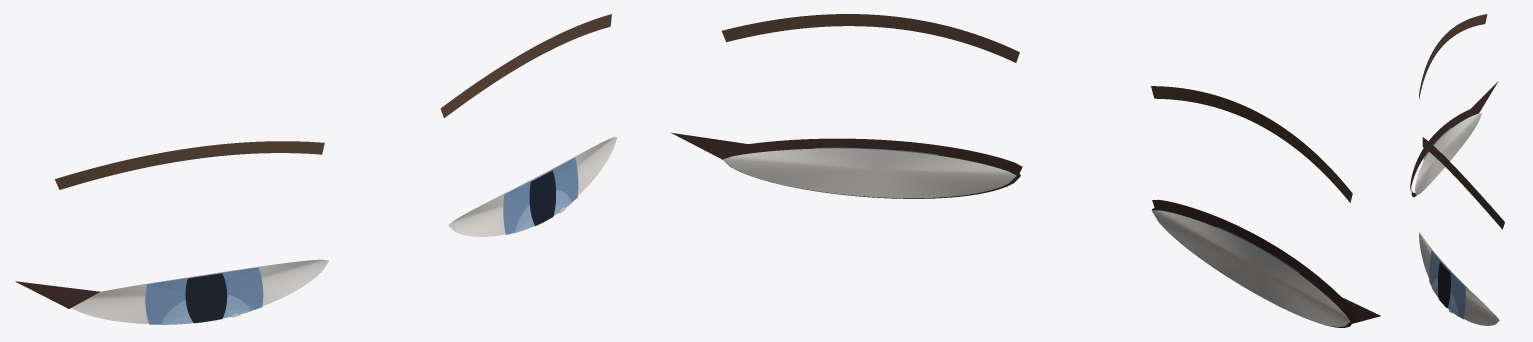
3 renders of one model, left to right at view 1: azimuth 30°, elevation 25°; view 2: azimuth 150°, elevation 25°; view 3: azimuth 270°, elevation 25°, orthographic. The views are drawn at different scales.
Parts seen in each view (by area): view 1: Eye_White_-1, Eyebrow_-1, Eye_White_1, Eye_Iris_-1, Eyebrow_1, Eye_Pupil_-1, Eye_Iris_1, Eye_Pupil_1, Eye_LashWing_-1, Eye_Iris_Light_-1, Eye_Iris_Light_1; view 2: Eye_White_1, Eye_White_-1, Eyebrow_1, Eye_UpperLid_1, Eyebrow_-1, Eye_UpperLid_-1, Eye_LashWing_1; view 3: Eye_White_-1, Eye_White_1, Eyebrow_1, Eye_Iris_1, Eyebrow_-1, Eye_UpperLid_-1, Eye_Pupil_1, Eye_Iris_Light_1, Eye_LashWing_-1.
Boxes of the visible parts, x1,y1,x2,y2 form: Eye_White_-1: [72, 259, 329, 323]; Eyebrow_-1: [55, 141, 324, 189]; Eye_White_1: [448, 137, 617, 236]; Eye_Iris_-1: [145, 267, 263, 324]; Eyebrow_1: [440, 14, 611, 118]; Eye_Pupil_-1: [185, 273, 227, 323]; Eye_Iris_1: [503, 157, 578, 234]; Eye_Pupil_1: [529, 170, 555, 225]; Eye_LashWing_-1: [15, 281, 99, 308]; Eye_Iris_Light_-1: [161, 294, 250, 324]; Eye_Iris_Light_1: [514, 190, 571, 232]; Eye_White_1: [723, 148, 1016, 198]; Eye_White_-1: [1151, 210, 1350, 326]; Eyebrow_1: [722, 14, 1019, 62]; Eye_UpperLid_1: [722, 138, 1022, 174]; Eyebrow_-1: [1151, 86, 1352, 202]; Eye_UpperLid_-1: [1152, 199, 1355, 319]; Eye_LashWing_1: [671, 132, 748, 159]; Eye_White_-1: [1415, 113, 1481, 194]; Eye_White_1: [1419, 233, 1499, 325]; Eyebrow_1: [1422, 137, 1504, 229]; Eye_Iris_1: [1429, 250, 1465, 319]; Eyebrow_-1: [1419, 14, 1487, 99]; Eye_UpperLid_-1: [1410, 107, 1478, 190]; Eye_Pupil_1: [1438, 262, 1450, 308]; Eye_Iris_Light_1: [1431, 278, 1458, 316]; Eye_LashWing_-1: [1471, 81, 1498, 113].
Size of the model in its own units: 0.4435 by 0.1231 by 0.0809.
